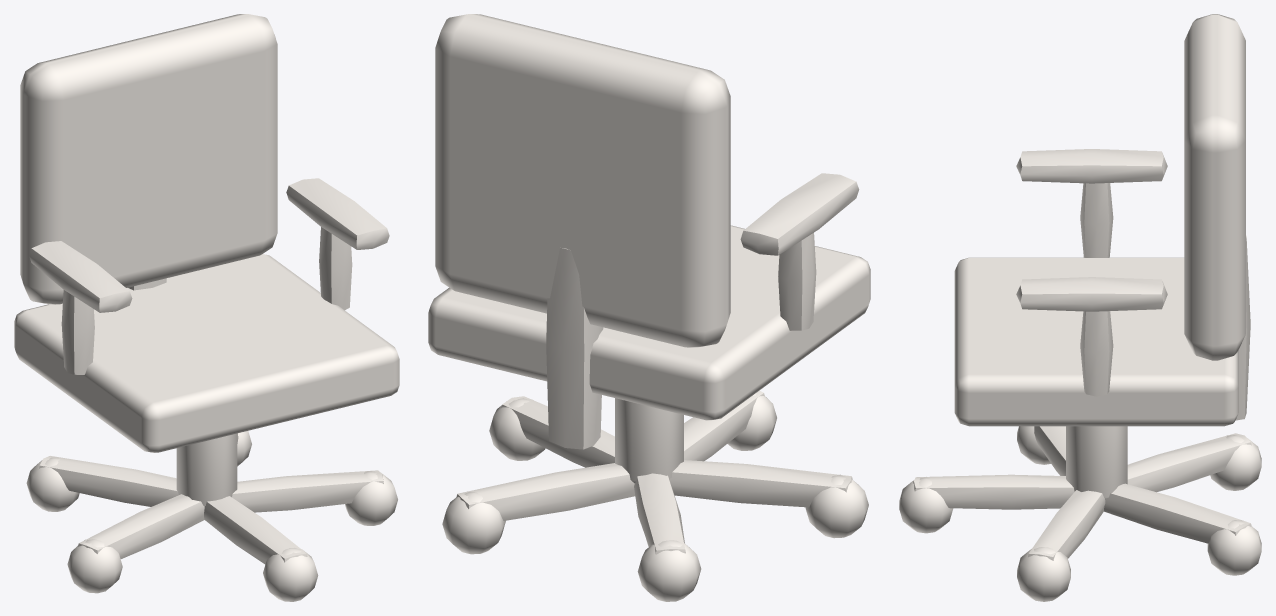
Rendered from gaming-chair.glb.
3 views of the same model, side by side, from view 1: azimuth 30°, elevation 25°; view 2: azimuth 150°, elevation 25°; view 3: azimuth 270°, elevation 25° (orthographic). The views are drawn at different scales.
Visible parts, largest first — view 1: part (×14), mesh-back; view 2: part (×15), mesh-back; view 3: part (×17), mesh-back.
Part boxes in pixels (<box>): part (×14): <box>14,178,399,601</box>; mesh-back: <box>20,14,277,304</box>; part (×15): <box>428,173,870,601</box>; mesh-back: <box>435,14,730,347</box>; part (×17): <box>899,149,1261,601</box>; mesh-back: <box>1184,14,1245,360</box>.
Size of the model in its own units: 0.8048 by 1.08 by 0.7654.
Materials: 1 (1 with a texture image).
